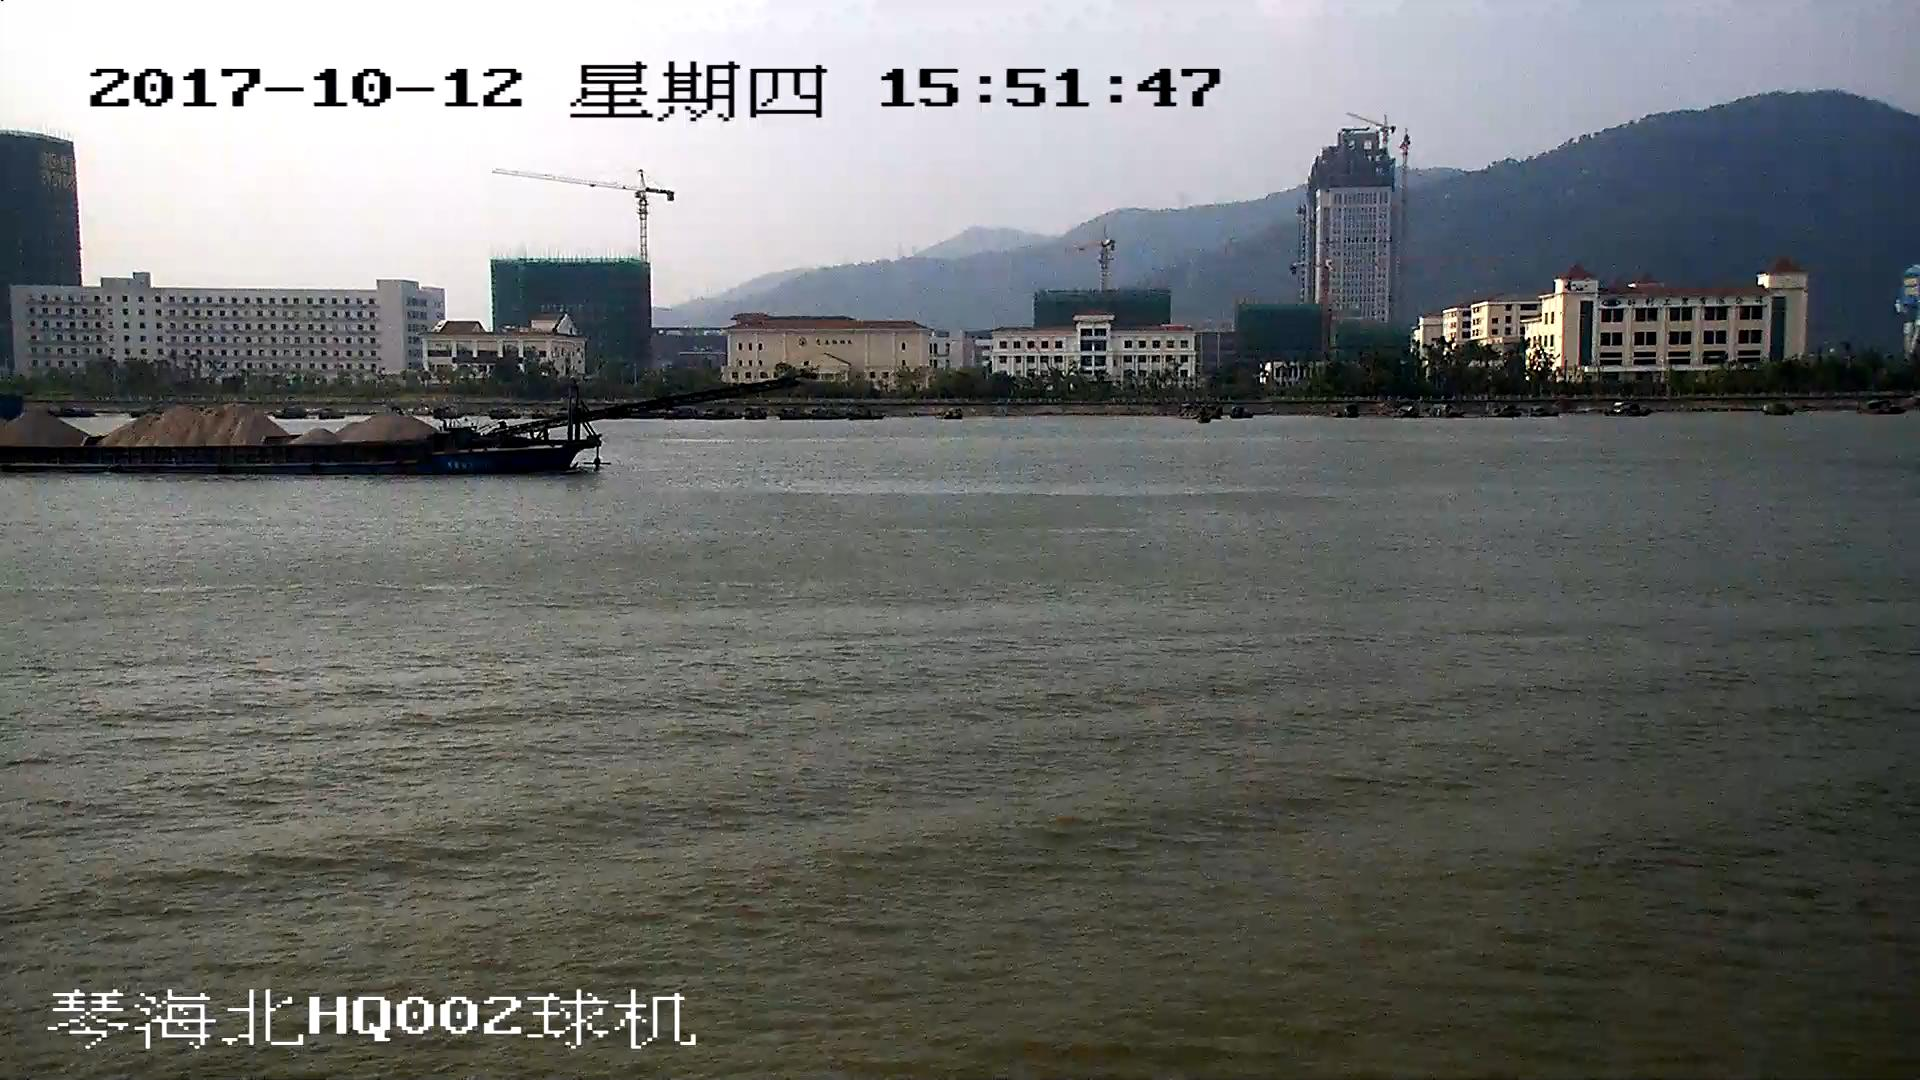ore carrier: (1, 371, 791, 476)
